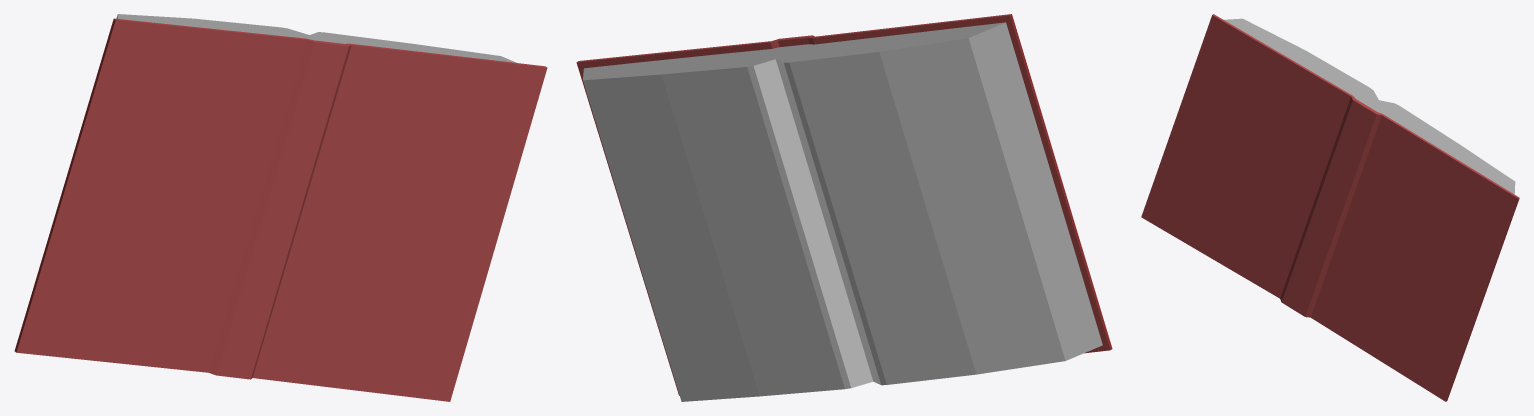
Rendered from Side_Book_Right.FBX.
3 views of the same model, side by side, from view 1: azimuth 30°, elevation 25°; view 2: azimuth 150°, elevation 25°; view 3: azimuth 330°, elevation 25° (orthographic). The views are drawn at different scales.
Visible parts, largest first — view 1: Object019; view 2: Object019; view 3: Object019.
Part boxes in pixels (<box>): Object019: <box>14,14,547,401</box>; Object019: <box>576,14,1112,401</box>; Object019: <box>1141,14,1519,401</box>.
Bounding box in the file's own units: 15.27 × 12.67 × 1.54.
Materials: 1 (1 with a texture image).
